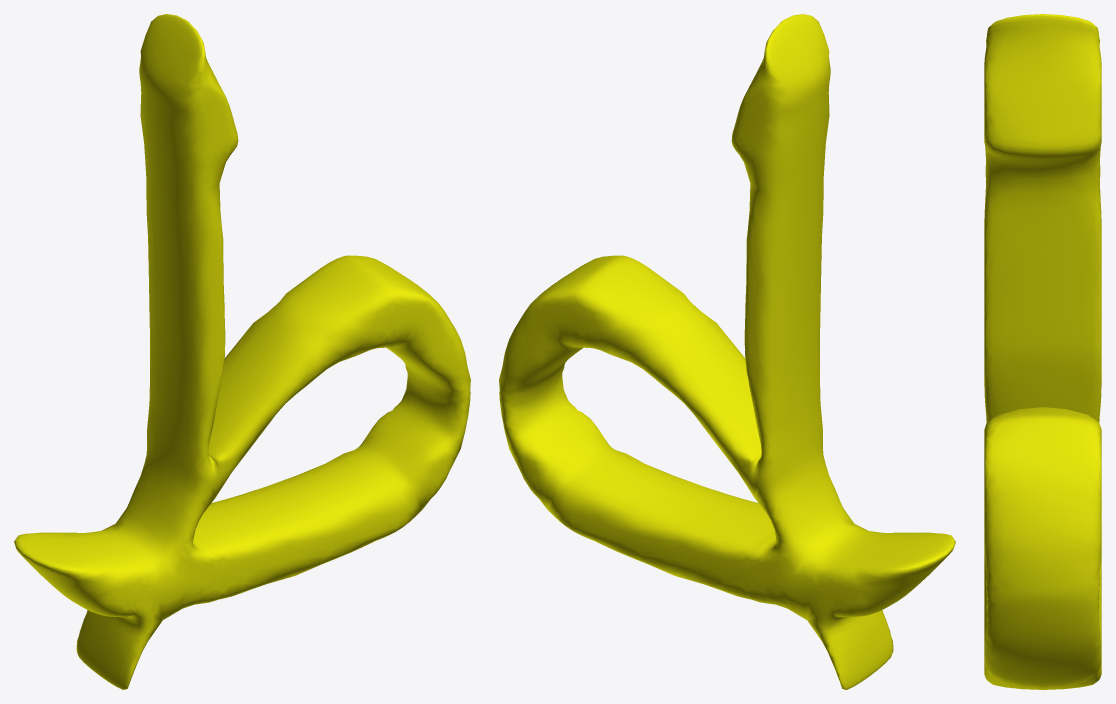
3 renders of one model, left to right at view 1: azimuth 30°, elevation 25°; view 2: azimuth 150°, elevation 25°; view 3: azimuth 270°, elevation 25°, orthographic. The views are drawn at different scales.
Parts seen in each view (by area): view 1: char_1; view 2: char_1; view 3: char_1.
Boxes of the visible parts, x1,y1,x2,y2 form: char_1: (14,14,470,689); char_1: (499,14,955,689); char_1: (984,14,1101,689).
Size of the model in its own units: 6.31 by 8.89 by 1.4.
